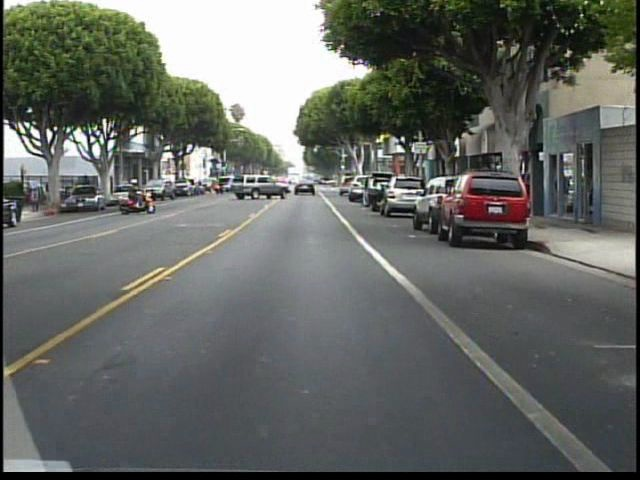person: (128, 179, 151, 212), (78, 172, 95, 206)
